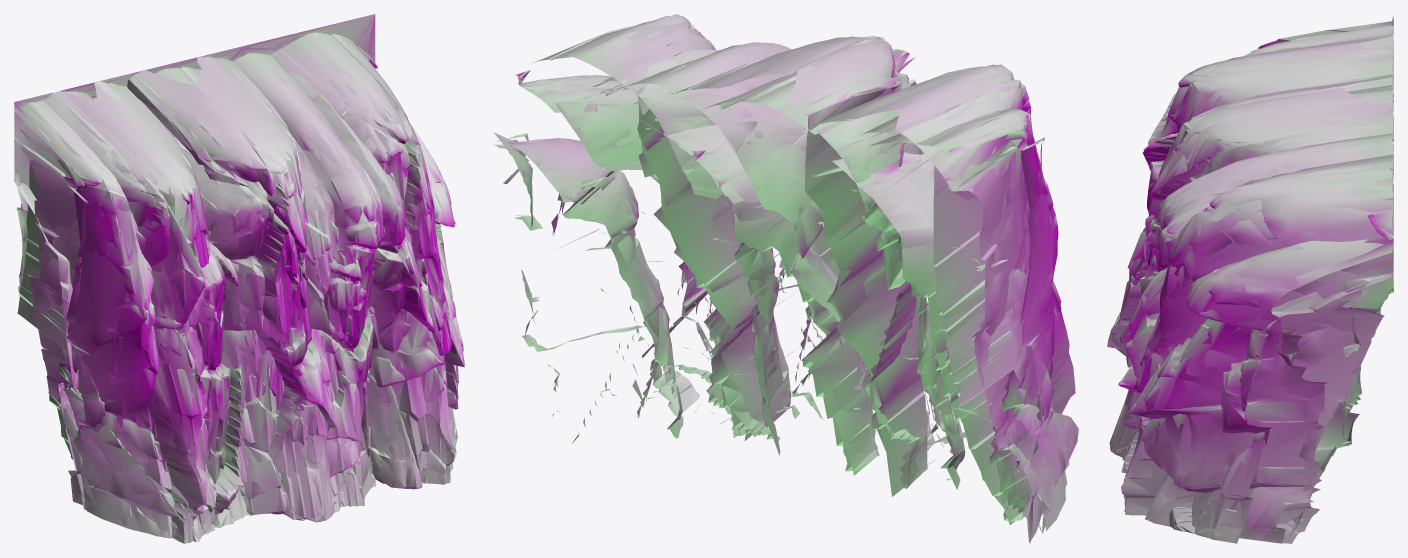
Rendered from cliffs.glb.
3 views of the same model, side by side, from view 1: azimuth 30°, elevation 25°; view 2: azimuth 150°, elevation 25°; view 3: azimuth 270°, elevation 25° (orthographic). The views are drawn at different scales.
Visible parts, largest first — view 1: cliff_1, cliff_1_lo, cliff_0, cliff_3, cliff_0_lo, cliff_3_lo, cliff_2, cliff_2_lo; view 2: cliff_3, cliff_0, cliff_3_lo, cliff_0_lo, cliff_1, cliff_2, cliff_2_lo, cliff_1_lo; view 3: cliff_0, cliff_3, cliff_0_lo, cliff_3_lo, cliff_1, cliff_2, cliff_1_lo, cliff_2_lo.
Boxes of the visible parts, x1,y1,x2,y2 form: cliff_1: [14, 14, 443, 542]; cliff_1_lo: [14, 16, 441, 538]; cliff_0: [14, 15, 464, 542]; cliff_3: [14, 14, 454, 530]; cliff_0_lo: [15, 47, 464, 543]; cliff_3_lo: [14, 14, 452, 541]; cliff_2: [14, 17, 457, 534]; cliff_2_lo: [14, 19, 457, 533]; cliff_3: [496, 15, 1043, 543]; cliff_0: [515, 42, 1078, 533]; cliff_3_lo: [533, 14, 1042, 542]; cliff_0_lo: [517, 43, 1078, 532]; cliff_1: [494, 49, 1067, 530]; cliff_2: [494, 125, 1041, 531]; cliff_2_lo: [495, 64, 1039, 521]; cliff_1_lo: [494, 50, 1065, 530]; cliff_0: [1107, 37, 1393, 535]; cliff_3: [1118, 33, 1393, 541]; cliff_0_lo: [1110, 34, 1393, 543]; cliff_3_lo: [1118, 19, 1393, 543]; cliff_1: [1109, 16, 1393, 543]; cliff_2: [1123, 157, 1393, 543]; cliff_1_lo: [1109, 22, 1393, 541]; cliff_2_lo: [1121, 255, 1393, 543].
Bounding box in the file's own units: 52.52 × 49.3 × 35.93.
